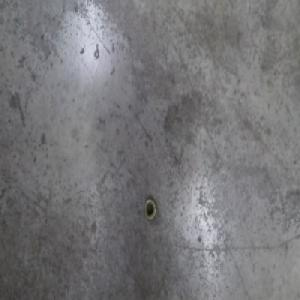Nut: (143, 196, 157, 223)
